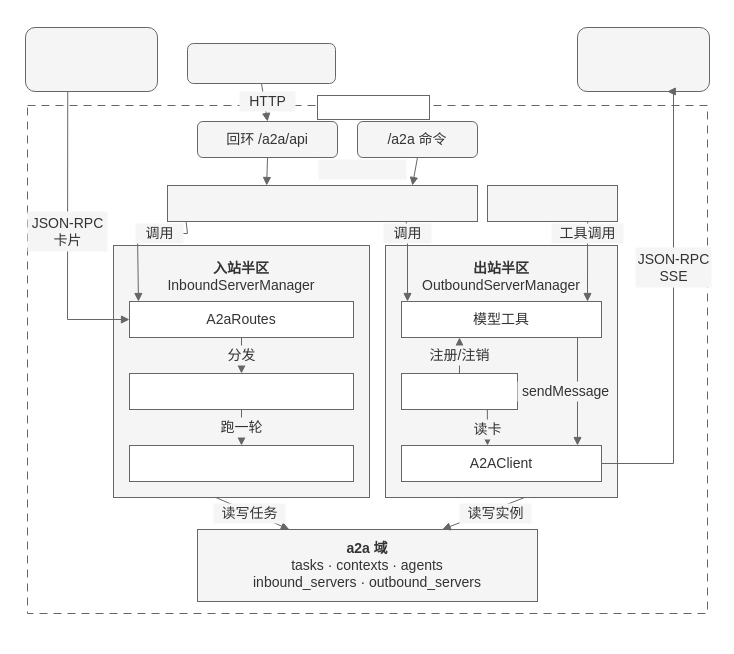
This 734x654 diagram has some shape labels left out. The shapes that lost their labels are listed below. From the top down, each one's centre as x and y in pixels, then its label:
At (x=91, y=59): "远端 A2A 客户端".
At (x=261, y=63): "设置页（浏览器）".
At (x=643, y=59): "远端 A2A Agent".
At (x=373, y=107): "DSH web 宿主".
At (x=362, y=169): "调 facade".
At (x=322, y=203): "A2A facade（ctx.a2a）".
At (x=552, y=203): "DSH 模型".
At (x=241, y=391): "A2AServer".
At (x=459, y=391): "Outbound AgentRegistry".
At (x=241, y=463): "ContextSessionPool".
